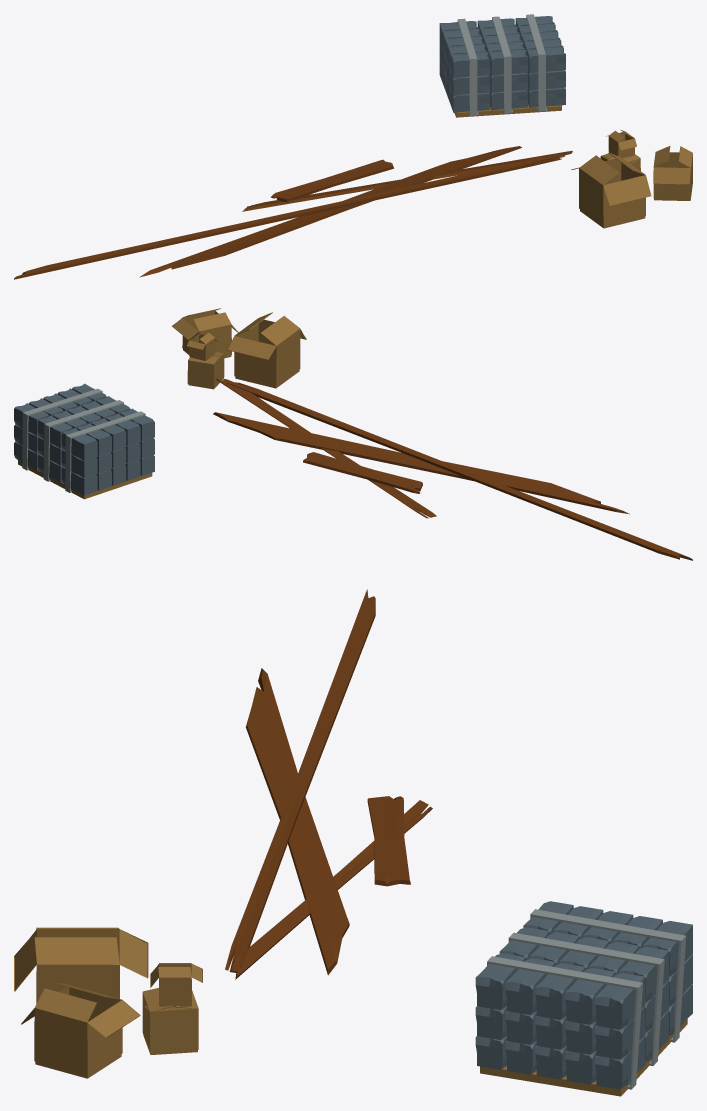
The model's file is construction_items.fbx.
The picture shows the model from 3 angles, top to bottom: view 1: azimuth 30°, elevation 25°; view 2: azimuth 150°, elevation 25°; view 3: azimuth 270°, elevation 25°; orthographic projection. The views are drawn at different scales.
Visible parts, largest first — view 1: blocks, cardboard, Plane.003, Plane.004, blockholder, Plane.002, Plane.001, block holder; view 2: blocks, cardboard, Plane.004, Plane.003, blockholder, Plane.002, Plane.001, block holder; view 3: blocks, cardboard, Plane.004, Plane.003, blockholder, Plane.001, Plane.002, block holder.
Boxes of the visible parts, bbox=[...] form: blocks: bbox=[439, 16, 565, 112]; cardboard: bbox=[571, 129, 692, 228]; Plane.003: bbox=[14, 153, 561, 279]; Plane.004: bbox=[139, 146, 521, 277]; blockholder: bbox=[457, 14, 547, 115]; Plane.002: bbox=[242, 151, 572, 211]; Plane.001: bbox=[271, 159, 393, 202]; block holder: bbox=[454, 104, 561, 117]; blocks: bbox=[14, 383, 154, 495]; cardboard: bbox=[172, 308, 306, 389]; Plane.004: bbox=[213, 412, 629, 514]; Plane.003: bbox=[227, 382, 692, 560]; blockholder: bbox=[22, 388, 145, 492]; Plane.002: bbox=[215, 378, 436, 518]; Plane.001: bbox=[303, 452, 422, 493]; block holder: bbox=[18, 460, 152, 499]; blocks: bbox=[475, 901, 692, 1089]; cardboard: bbox=[14, 927, 202, 1078]; Plane.004: bbox=[245, 668, 349, 975]; Plane.003: bbox=[225, 589, 375, 970]; blockholder: bbox=[487, 909, 686, 1089]; Plane.001: bbox=[367, 796, 410, 886]; Plane.002: bbox=[229, 800, 432, 979]; block holder: bbox=[480, 1019, 687, 1096].
Size of the model in its own units: 4.2 by 0.4311 by 2.35.
